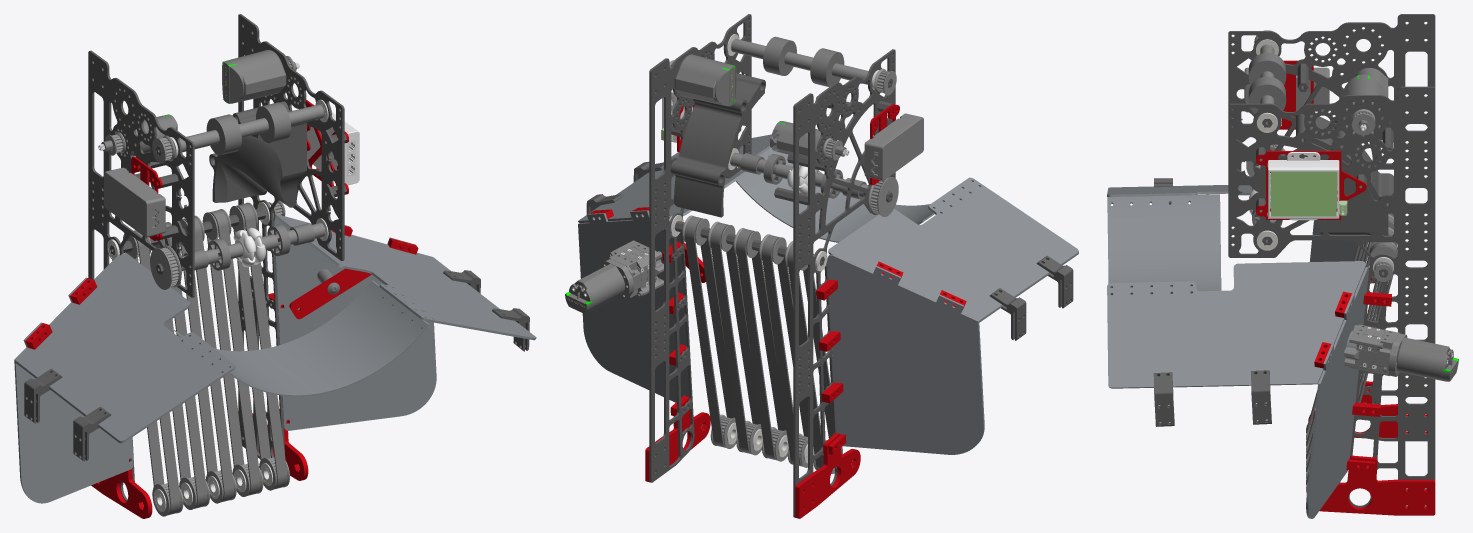
File: robot-2026-feeder-queuer-fast.glb
The picture shows the model from 3 angles, left to right: view 1: azimuth 30°, elevation 25°; view 2: azimuth 150°, elevation 25°; view 3: azimuth 270°, elevation 25°; orthographic projection. The views are drawn at different scales.
Parts seen in each view (by area): view 1: Front Hopper Plate (×2), Feeder Plate (×2), 165t 5mm Belt (×5), Bottom Hopper Plate (With Battery Cutout), Part 25, Bottom Hopper Plate(Without battery), Feeder Funnel, Kraken X60 Brushless Motor (×2), Robot Radio (VH-109), Hopper Connectors (×3), occurrence of (×2), Part 31 (×2) (+4 smaller); view 2: Feeder Plate (×2), Bottom Hopper Plate(Without battery), Front Hopper Plate (×2), 165t 5mm Belt (×5), Bottom Hopper Plate (With Battery Cutout), Feeder Funnel, Part 25, Part 31 (×2), Kraken X60 Brushless Motor (×2), Kraken X44 Brushless Motor (×2), Robot Radio (VH-109), 2" Solid Urethane Wheel (45A, 1" Wide, 1/2" Hex Bore) (×2) (+2 smaller); view 3: Feeder Plate (×2), Front Hopper Plate (×2), Part 25, Bottom Hopper Plate (With Battery Cutout), occurrence of, Part 31 (×2), Feeder Funnel, Hopper Connectors (×2), Kraken X44 Brushless Motor, 2" Solid Urethane Wheel (45A, 1" Wide, 1/2" Hex Bore) (×2), Switch Plate, Kraken X60 Brushless Motor (×2) (+7 smaller).
Boxes of the visible parts, bbox=[...] form: Front Hopper Plate (×2): bbox=[15, 214, 536, 443]; Feeder Plate (×2): bbox=[88, 14, 344, 501]; 165t 5mm Belt (×5): bbox=[134, 203, 287, 515]; Bottom Hopper Plate (With Battery Cutout): bbox=[273, 218, 436, 430]; Part 25: bbox=[172, 280, 429, 396]; Bottom Hopper Plate(Without battery): bbox=[14, 255, 133, 503]; Feeder Funnel: bbox=[209, 101, 307, 207]; Kraken X60 Brushless Motor (×2): bbox=[222, 50, 299, 103]; Robot Radio (VH-109): bbox=[104, 167, 165, 237]; Hopper Connectors (×3): bbox=[24, 308, 529, 461]; occurrence of (×2): bbox=[233, 112, 359, 267]; Part 31 (×2): bbox=[91, 410, 308, 518]; Feeder Plate (×2): bbox=[649, 14, 895, 517]; Bottom Hopper Plate(Without battery): bbox=[827, 254, 984, 454]; Front Hopper Plate (×2): bbox=[578, 134, 1078, 322]; 165t 5mm Belt (×5): bbox=[684, 216, 833, 469]; Bottom Hopper Plate (With Battery Cutout): bbox=[578, 210, 689, 402]; Feeder Funnel: bbox=[670, 73, 765, 217]; Part 25: bbox=[735, 147, 934, 242]; Part 31 (×2): bbox=[645, 396, 860, 518]; Kraken X60 Brushless Motor (×2): bbox=[674, 54, 736, 106]; Kraken X44 Brushless Motor (×2): bbox=[565, 121, 849, 313]; Robot Radio (VH-109): bbox=[864, 113, 923, 180]; 2" Solid Urethane Wheel (45A, 1" Wide, 1/2" Hex Bore) (×2): bbox=[763, 36, 844, 86]; Feeder Plate (×2): bbox=[1228, 14, 1435, 507]; Front Hopper Plate (×2): bbox=[1107, 185, 1366, 388]; Part 25: bbox=[1107, 194, 1221, 294]; Bottom Hopper Plate (With Battery Cutout): bbox=[1306, 267, 1368, 518]; occurrence of: bbox=[1267, 152, 1347, 220]; Part 31 (×2): bbox=[1308, 381, 1435, 515]; Feeder Funnel: bbox=[1296, 113, 1393, 235]; Hopper Connectors (×2): bbox=[1153, 370, 1271, 426]; Kraken X44 Brushless Motor: bbox=[1397, 337, 1458, 381]; 2" Solid Urethane Wheel (45A, 1" Wide, 1/2" Hex Bore) (×2): bbox=[1248, 52, 1286, 114]; Switch Plate: bbox=[1256, 151, 1366, 219]; Kraken X60 Brushless Motor (×2): bbox=[1339, 74, 1387, 135].
Size of the model in its own units: 0.6923 by 0.635 by 0.4753.
